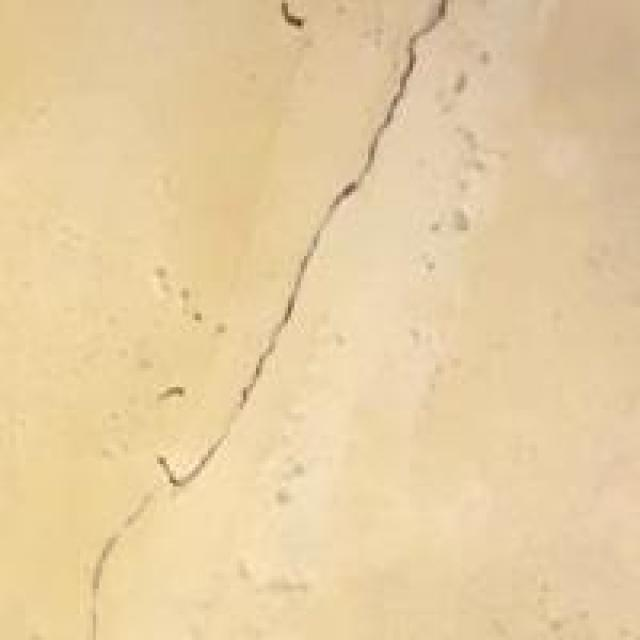crack: (66, 0, 470, 640)
